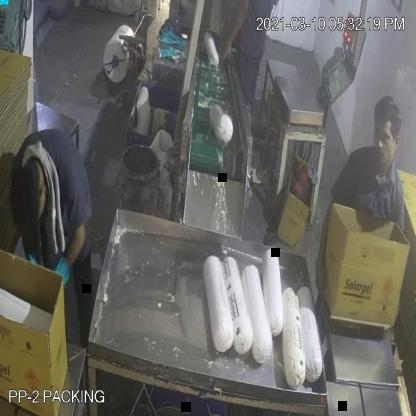no_glove: (310, 176, 340, 308), (222, 0, 248, 74)
